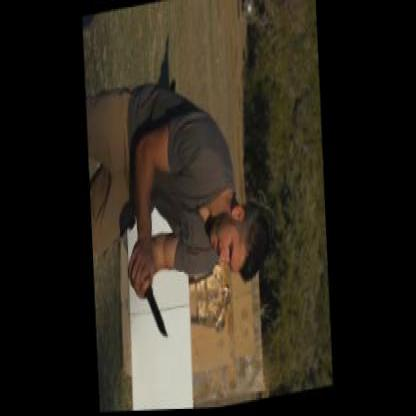knife: (126, 241, 170, 349)
